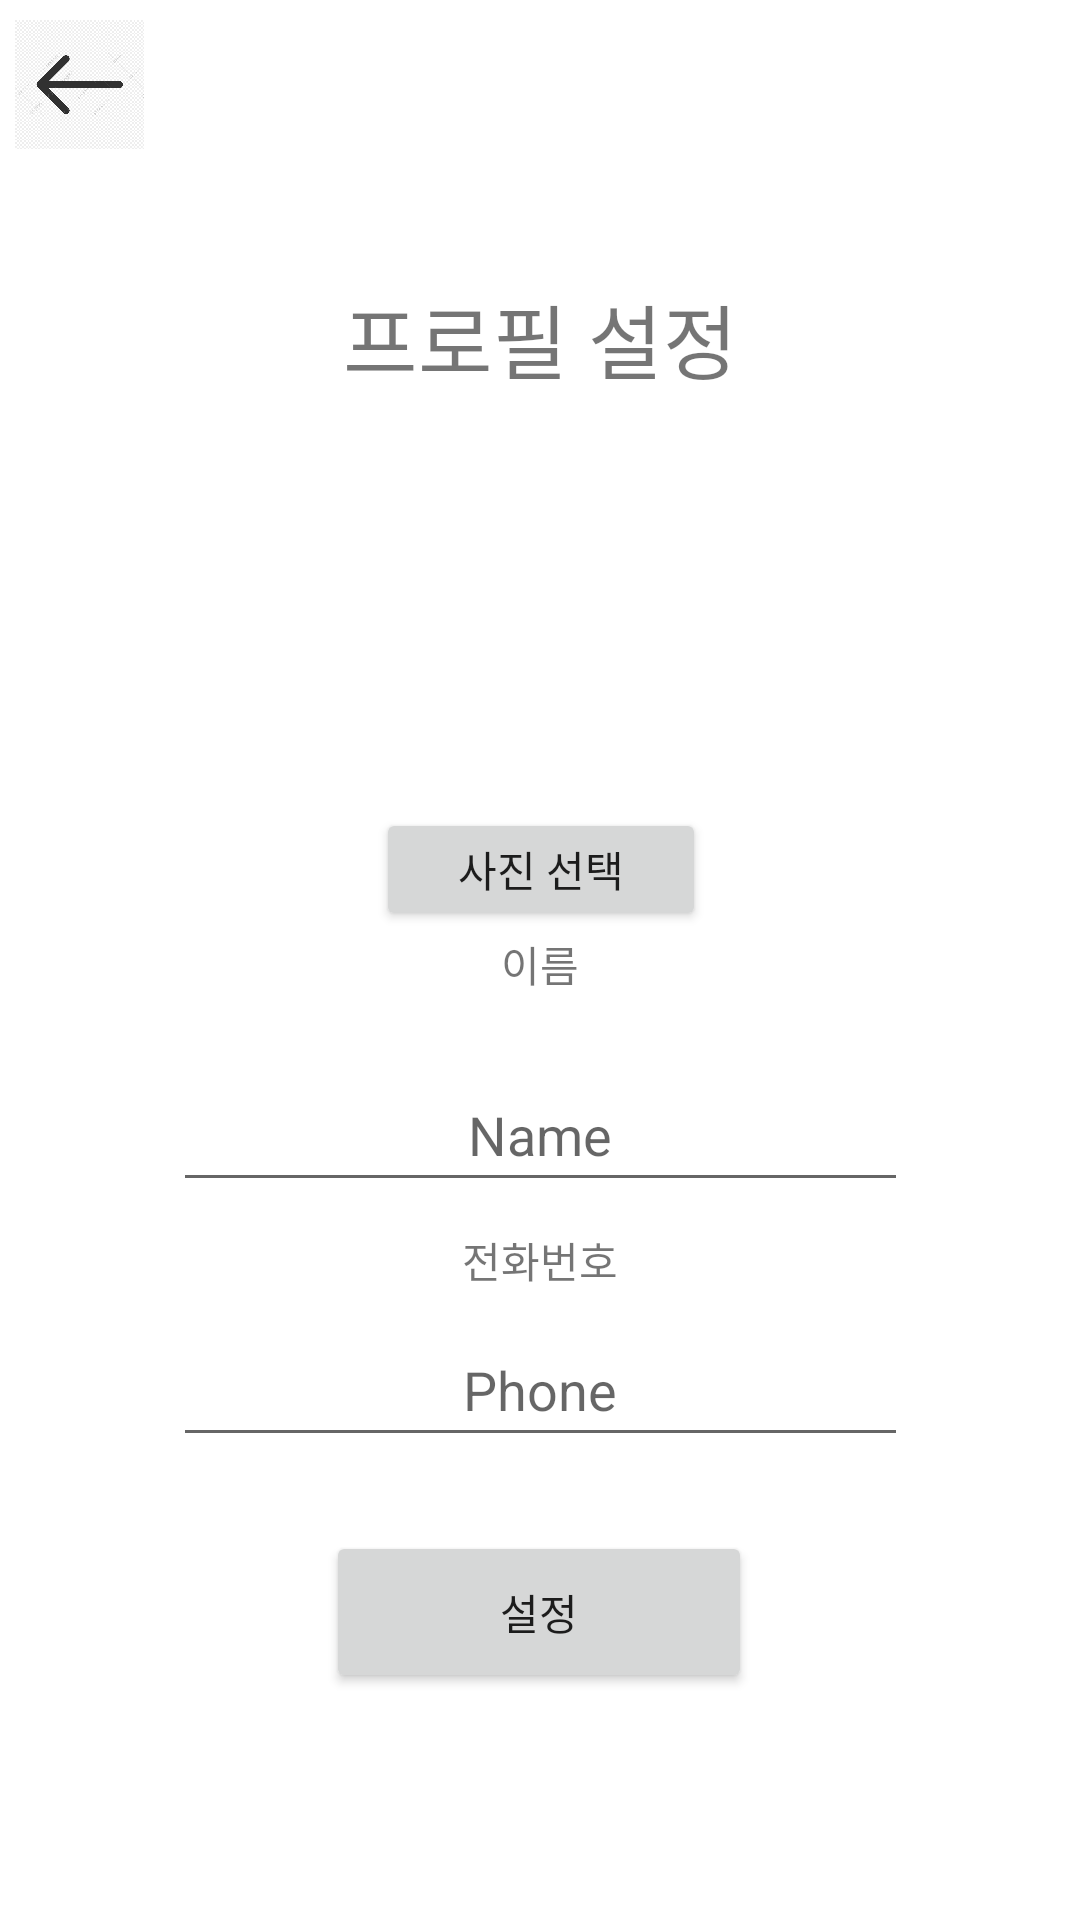

Screen size 1080px x 1920px. Icon name, then its center in pixels as point (x, y):
back: point (80, 84)
